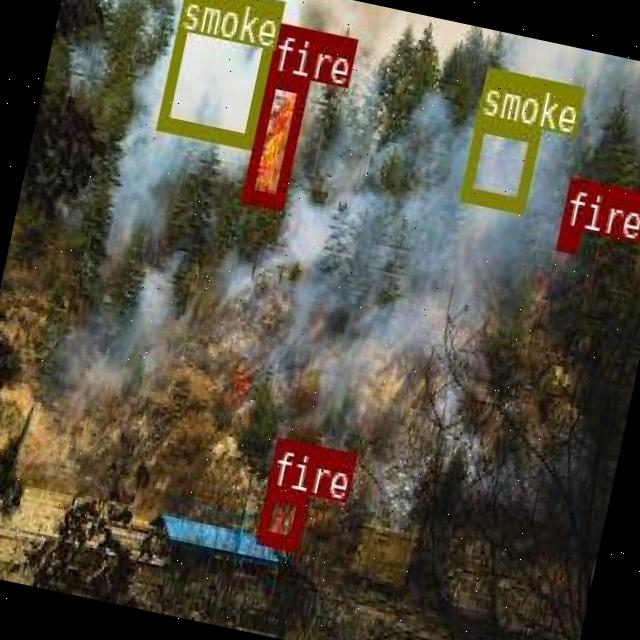fire: (240, 69, 308, 206), (255, 486, 307, 548), (556, 225, 578, 249)
smoke: (154, 0, 281, 146), (459, 114, 540, 209)
